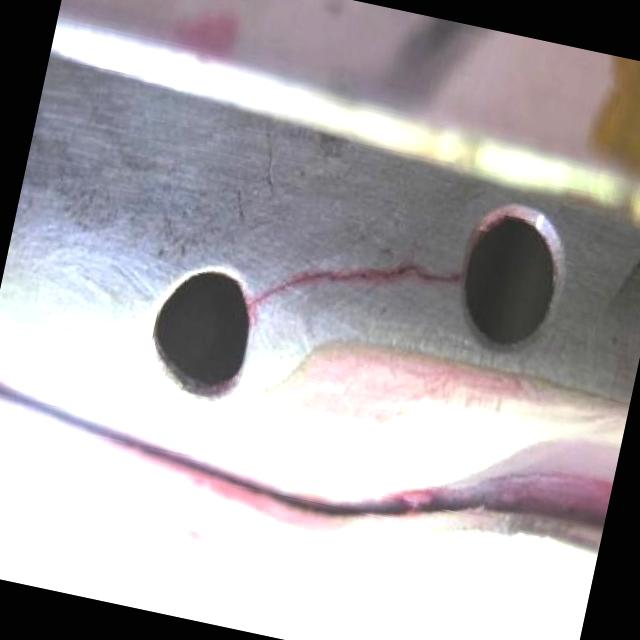crack: (310, 245, 452, 306), (247, 268, 308, 318)
